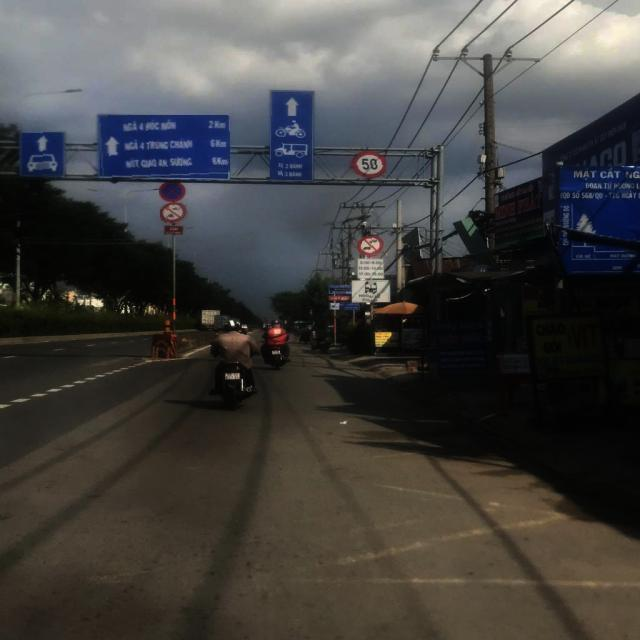107-cam-oto-khach-va-oto-tai: (356, 236, 384, 256)
127-toc-do-toi-da-50: (352, 151, 386, 177)
130-cam-dung-va-do-xe: (157, 182, 187, 202)
